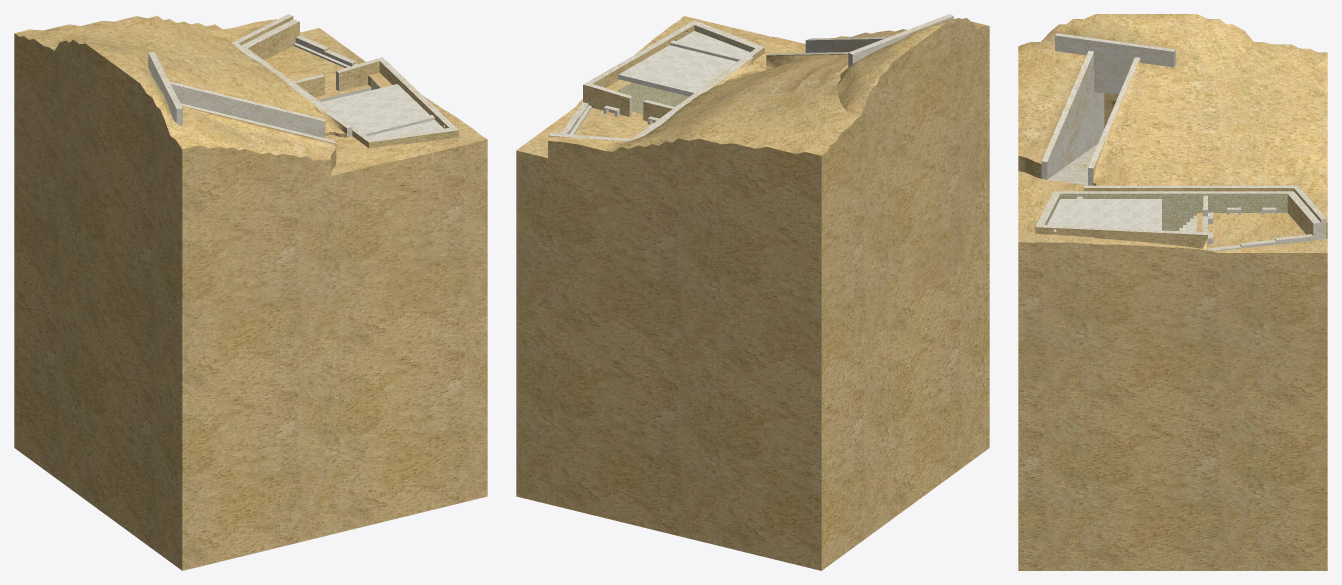
Rendered from SUPreview2.dae.
3 renders of one model, left to right at view 1: azimuth 30°, elevation 25°; view 2: azimuth 150°, elevation 25°; view 3: azimuth 270°, elevation 25°, orthographic. The views are drawn at different scales.
Parts seen in each view (by area): view 1: Model; view 2: Model; view 3: Model.
Boxes of the visible parts, left/top/right/bottom form: Model: left=14, top=14, right=487, bottom=570; Model: left=516, top=14, right=989, bottom=570; Model: left=1018, top=14, right=1327, bottom=570.
Size of the model in its own units: 2751 by 2625 by 3934.
